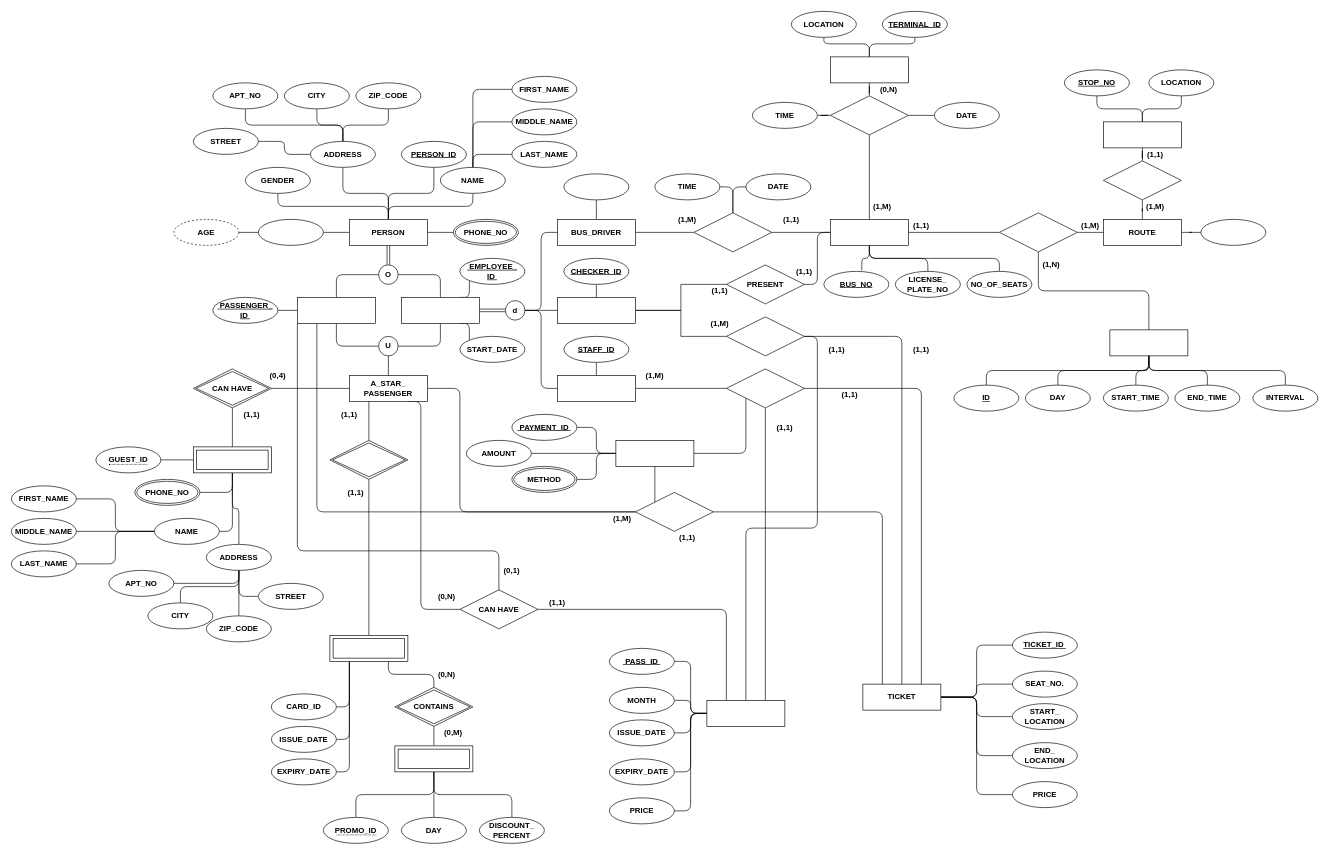
This 1329x855 diagram has some shape labels left out. The shapes that lost their labels are listed below. From the top down, each one's centre as x and y in pixels, then its label:
the point at 869,69: TERMINAL
the point at 869,115: PARKS
the point at 1142,134: BUS STOP
the point at 596,186: DRIVER_ID
the point at 1142,180: HAS
the point at 290,232: DOB
the point at 732,232: DRIVES
the point at 869,232: BUS
the point at 1038,232: FOLLOWS
the point at 1233,232: ROUTE_ID
the point at 336,310: A_CLASS_ PASSENGER
the point at 440,310: EMPLOYEE
the point at 596,310: TICKET_CHECKER
the point at 765,336: CHECKS
the point at 1148,342: TIMETABLE
the point at 596,388: STAFF
the point at 765,388: SELLS
the point at 232,459: GUEST
the point at 368,459: IS ISSUED
the point at 654,453: PAYMENT_DETAILS
the point at 674,511: BUYS
the point at 368,648: TRAVEL_CARD
the point at 745,713: PASS
the point at 433,758: PROMOTIONAL_ DISCOUNT
